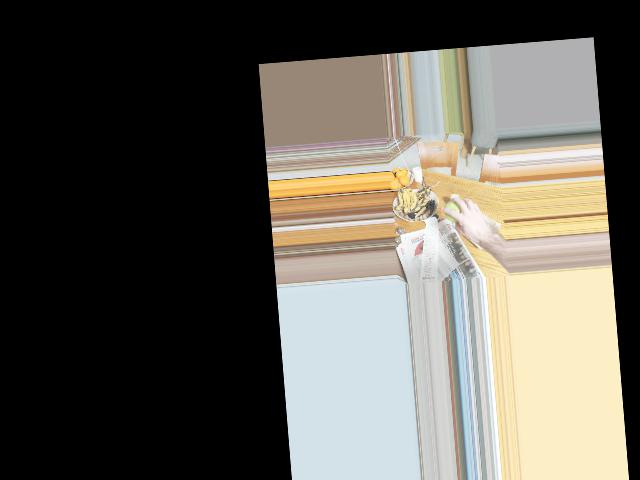apple: (443, 198, 469, 224)
